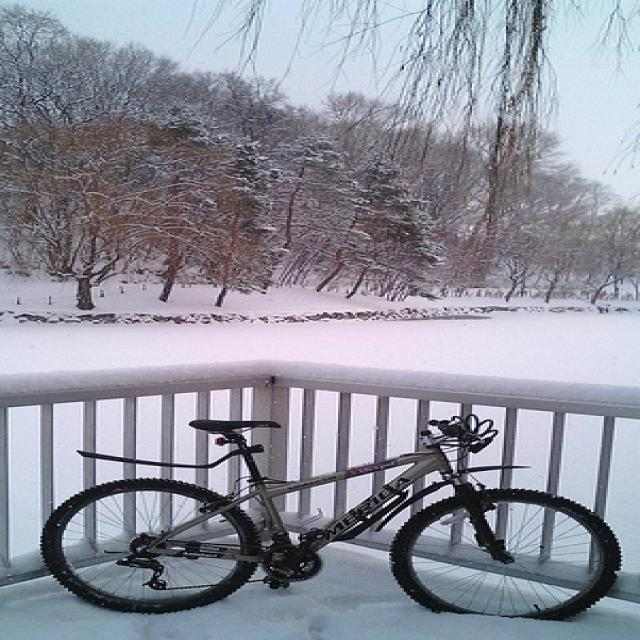bicycle: (36, 412, 621, 620)
